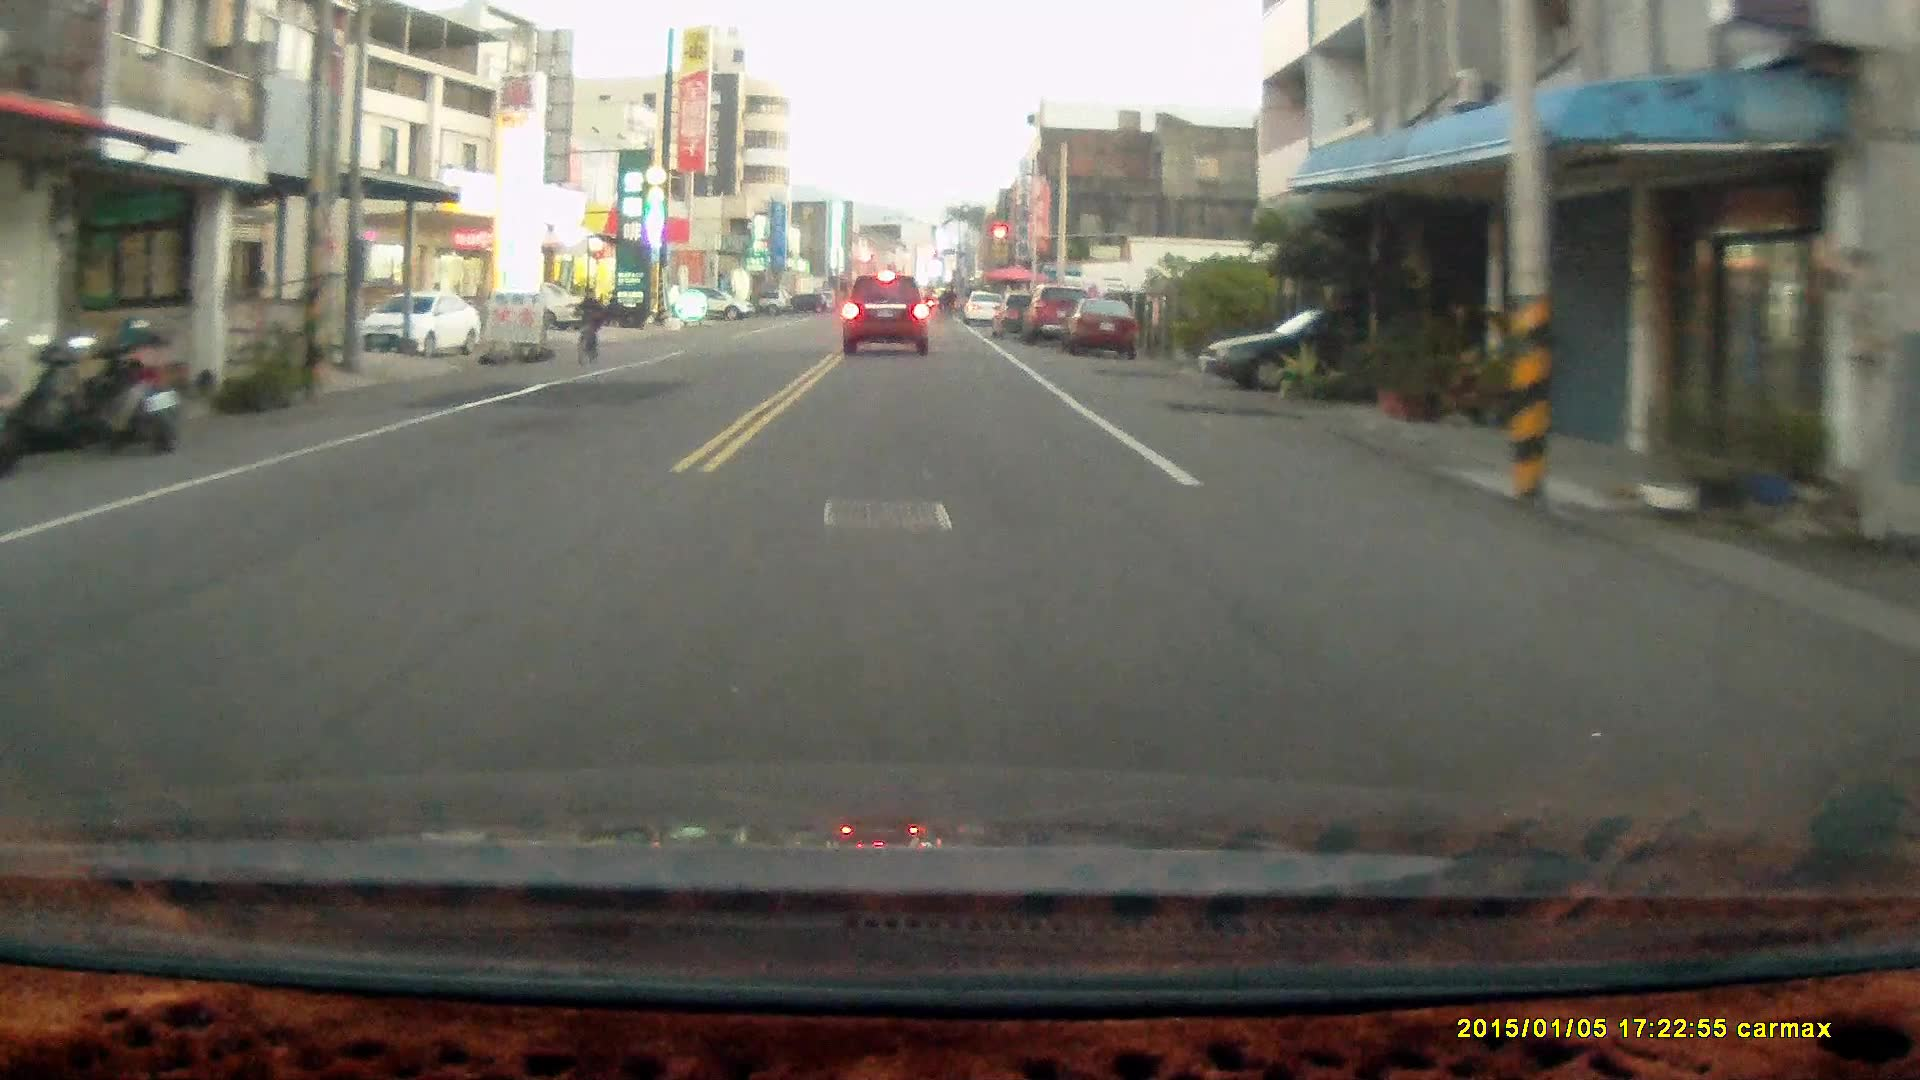rider: (573, 286, 600, 367)
vehicle: (1199, 321, 1406, 392), (840, 275, 936, 362), (365, 291, 479, 358), (475, 282, 593, 337), (1061, 297, 1142, 361), (668, 285, 753, 323)
